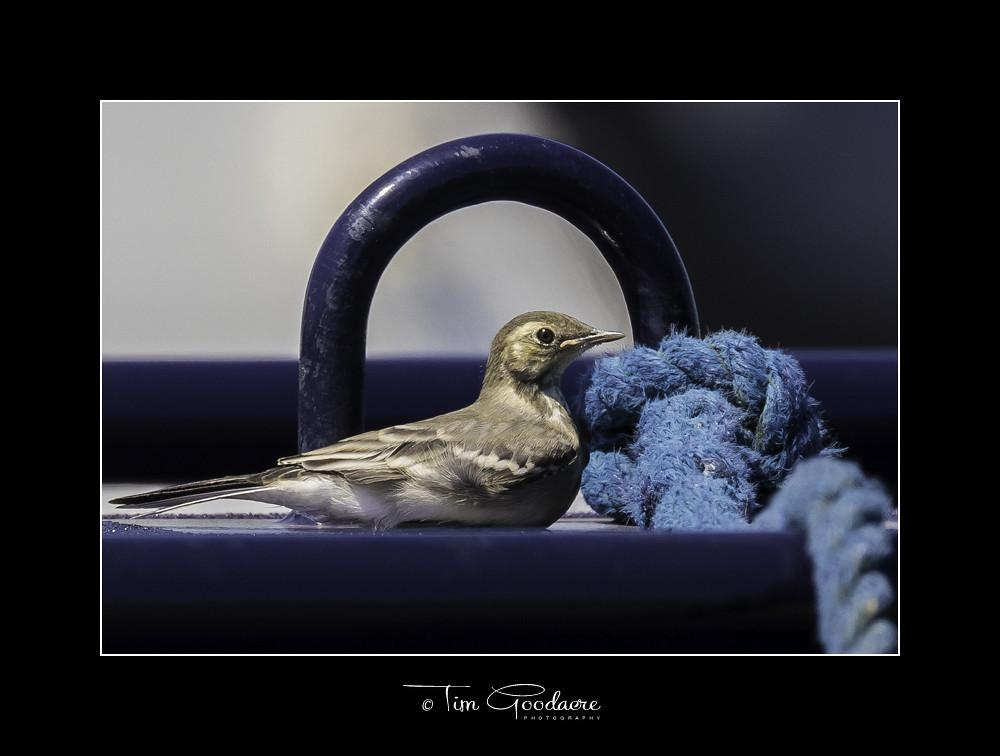car: (102, 131, 899, 655)
